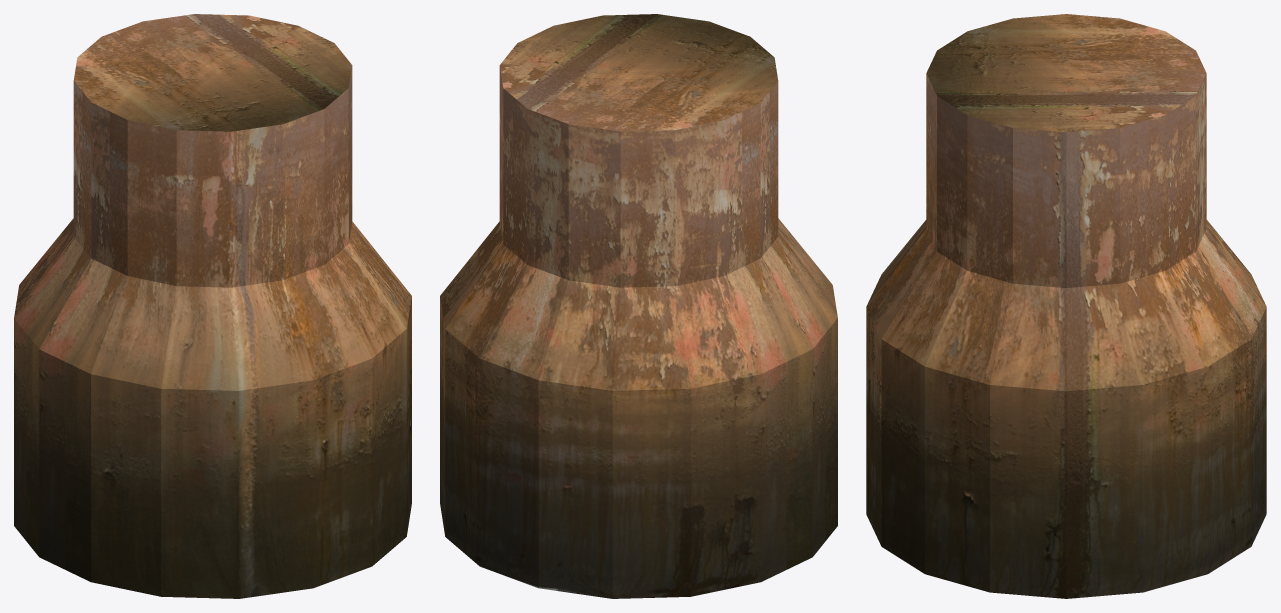
File: prop_oil_tank.fbx
3 renders of one model, left to right at view 1: azimuth 30°, elevation 25°; view 2: azimuth 150°, elevation 25°; view 3: azimuth 270°, elevation 25°, orthographic.
Visible parts, largest first — view 1: Circle.003; view 2: Circle.003; view 3: Circle.003.
Part boxes in pixels (<box>): Circle.003: <box>14,14,411,598</box>; Circle.003: <box>440,14,837,598</box>; Circle.003: <box>866,14,1266,598</box>.
Bounding box in the file's own units: 1500 × 1823 × 1500.
